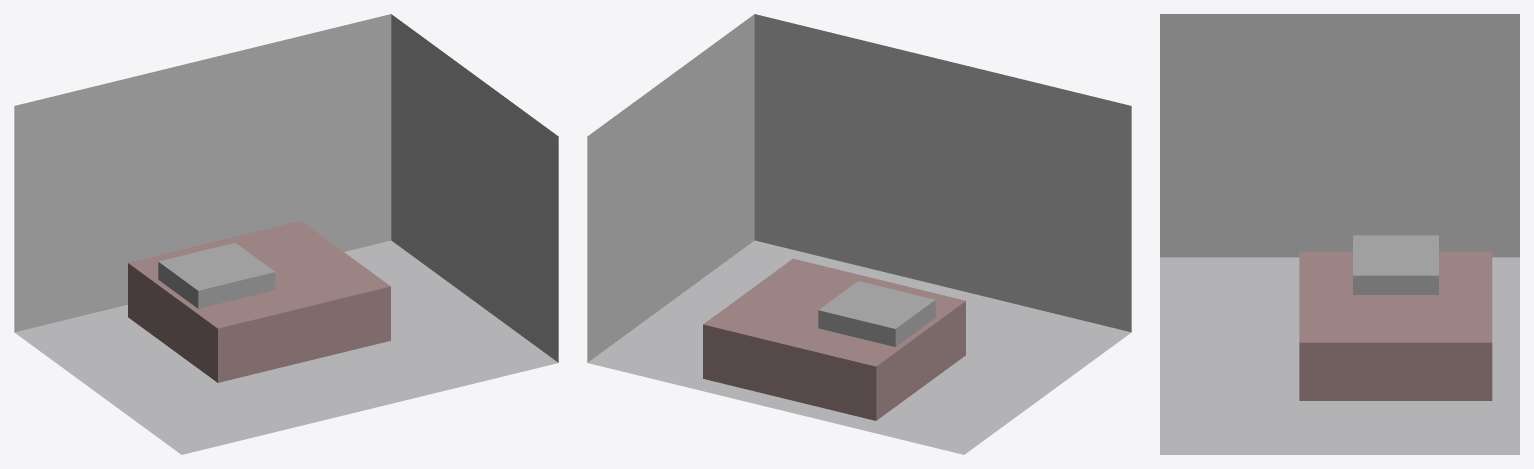
The model's file is current_layout.glb.
3 renders of one model, left to right at view 1: azimuth 30°, elevation 25°; view 2: azimuth 150°, elevation 25°; view 3: azimuth 270°, elevation 25°, orthographic. The views are drawn at different scales.
Visible parts, largest first — view 1: room, bed, dustbin, sofas; view 2: room, bed, sofas, dustbin; view 3: room, bed, dustbin, sofas.
Boxes of the visible parts, <box> form: room: <box>14,14,558,454</box>; bed: <box>128,220,390,382</box>; dustbin: <box>166,242,275,306</box>; sofas: <box>158,244,248,308</box>; room: <box>587,14,1131,454</box>; bed: <box>703,258,965,420</box>; sofas: <box>826,288,935,346</box>; dustbin: <box>818,281,905,329</box>; room: <box>1160,14,1519,454</box>; bed: <box>1299,251,1492,400</box>; dustbin: <box>1353,239,1438,294</box>; sofas: <box>1353,235,1438,271</box>.
Size of the model in its own units: 4.36 by 2.5 by 3.35.
